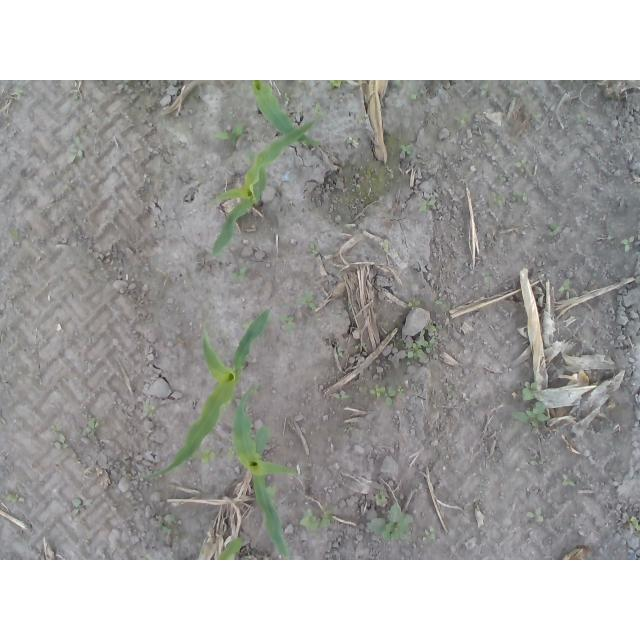Maize: (144, 305, 272, 479), (211, 119, 317, 260), (229, 382, 296, 555), (250, 81, 318, 148), (218, 536, 243, 560)
Weeds: (510, 381, 552, 430), (367, 502, 416, 543), (407, 325, 438, 365), (359, 385, 405, 408), (214, 125, 250, 144), (299, 511, 334, 529), (47, 423, 69, 449), (158, 511, 178, 533), (68, 136, 85, 161), (280, 312, 297, 336), (526, 508, 544, 529), (405, 85, 425, 103), (622, 511, 640, 531), (303, 289, 319, 311), (201, 447, 217, 465), (228, 267, 249, 280), (547, 223, 562, 241), (511, 158, 529, 173), (375, 489, 390, 507), (0, 493, 24, 504), (421, 527, 436, 544), (455, 112, 470, 129), (408, 297, 425, 311), (621, 236, 635, 253), (141, 400, 155, 417), (305, 240, 319, 256), (418, 199, 434, 213), (560, 278, 573, 295), (313, 101, 325, 119), (85, 415, 97, 433), (399, 143, 413, 158), (265, 483, 279, 498), (512, 192, 529, 204), (332, 390, 352, 400), (335, 344, 346, 361), (479, 80, 490, 97), (496, 176, 513, 187), (497, 192, 508, 208), (355, 114, 369, 126), (575, 112, 589, 124), (481, 270, 494, 282), (560, 480, 577, 489), (70, 498, 82, 510), (328, 80, 344, 88), (390, 80, 406, 88), (282, 95, 290, 109), (535, 112, 545, 123), (347, 135, 358, 145), (15, 86, 25, 97), (382, 239, 391, 251), (520, 224, 529, 236), (433, 300, 447, 306), (8, 225, 16, 235), (144, 554, 153, 560)
